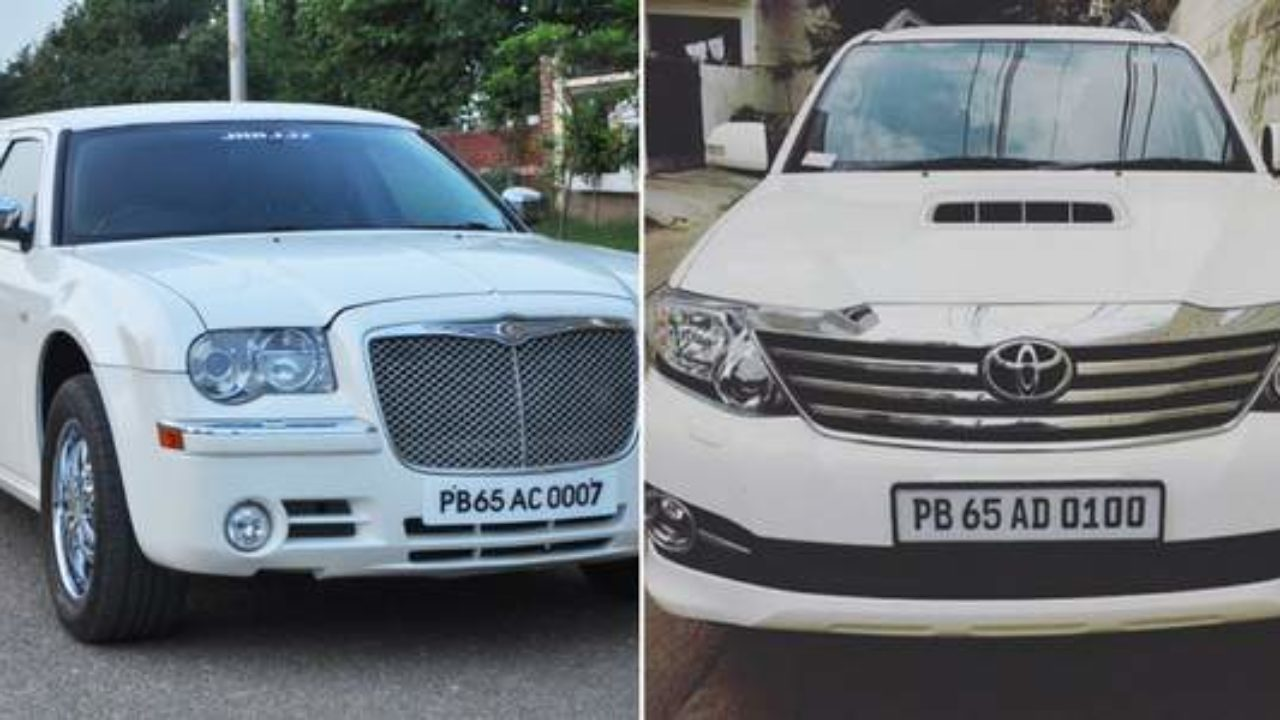numberplate: (891, 482, 1161, 540), (424, 468, 617, 527)
